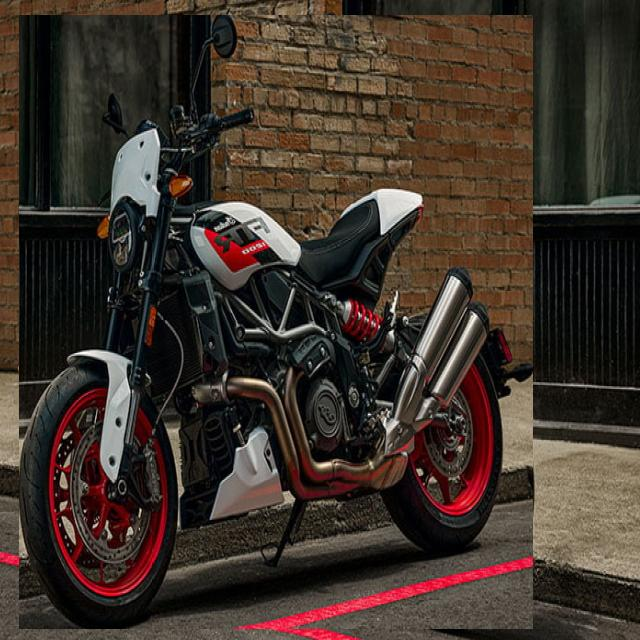motorcycle: (20, 15, 533, 629)
